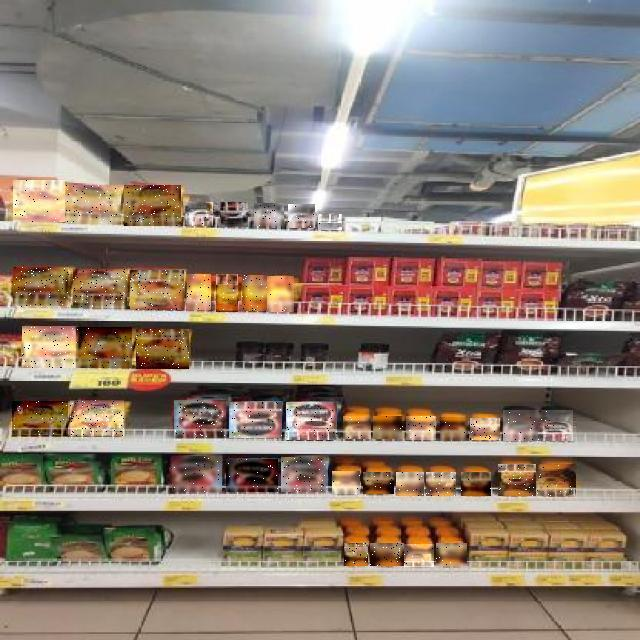Coffee: (22, 326, 78, 368), (124, 185, 181, 226), (76, 327, 132, 368), (14, 268, 70, 308), (13, 180, 65, 222), (131, 270, 185, 310), (136, 329, 189, 369), (66, 185, 120, 224), (73, 270, 127, 308), (174, 400, 226, 438), (12, 401, 68, 436), (71, 401, 125, 437), (286, 402, 337, 440), (229, 402, 282, 438), (172, 457, 222, 493), (227, 459, 279, 492), (282, 457, 328, 492), (536, 464, 576, 496), (498, 464, 537, 496), (504, 410, 540, 441), (540, 410, 576, 441), (268, 276, 296, 312), (242, 275, 267, 311), (187, 275, 211, 311), (216, 274, 238, 312), (370, 543, 404, 566), (436, 544, 467, 568), (254, 204, 284, 228), (406, 417, 436, 441), (427, 472, 457, 496), (461, 472, 491, 496), (220, 202, 248, 227), (404, 544, 434, 567), (374, 416, 404, 439), (363, 472, 394, 494), (185, 202, 213, 226), (440, 417, 468, 441), (396, 472, 424, 496), (471, 418, 501, 440), (288, 204, 315, 228), (343, 416, 371, 439), (332, 471, 360, 494), (344, 543, 368, 566), (318, 215, 342, 231)
